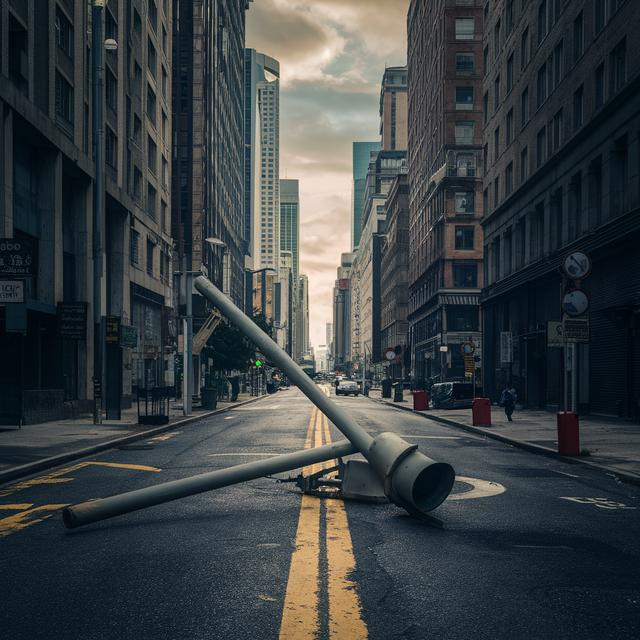Inclined Pole: (51, 271, 477, 530)
